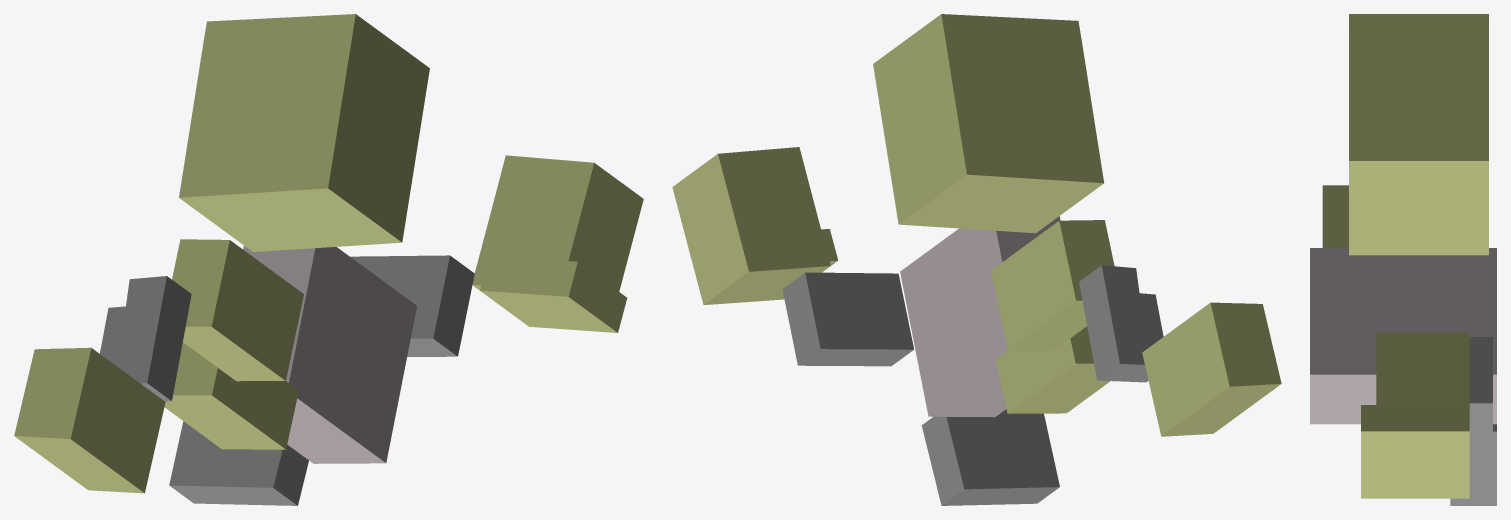
3 views of the same model, side by side, from view 1: azimuth 30°, elevation 25°; view 2: azimuth 150°, elevation 25°; view 3: azimuth 270°, elevation 25° (orthographic). The views are drawn at different scales.
Parts seen in each view (by area): view 1: 0_1_2_0_1_3_0_2_3; view 2: 0_1_2_0_1_3_0_2_3; view 3: 0_1_2_0_1_3_0_2_3.
Boxes of the visible parts, bbox=[...] form: 0_1_2_0_1_3_0_2_3: bbox=[14, 14, 643, 505]; 0_1_2_0_1_3_0_2_3: bbox=[672, 14, 1281, 505]; 0_1_2_0_1_3_0_2_3: bbox=[1310, 14, 1496, 505].
Size of the model in its own units: 40.89 by 32.57 by 12.
